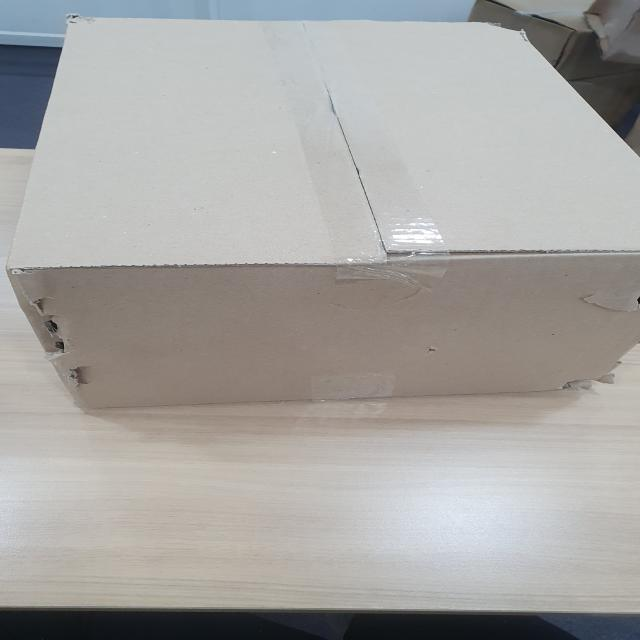hole: (19, 302, 99, 386), (558, 322, 640, 398)
